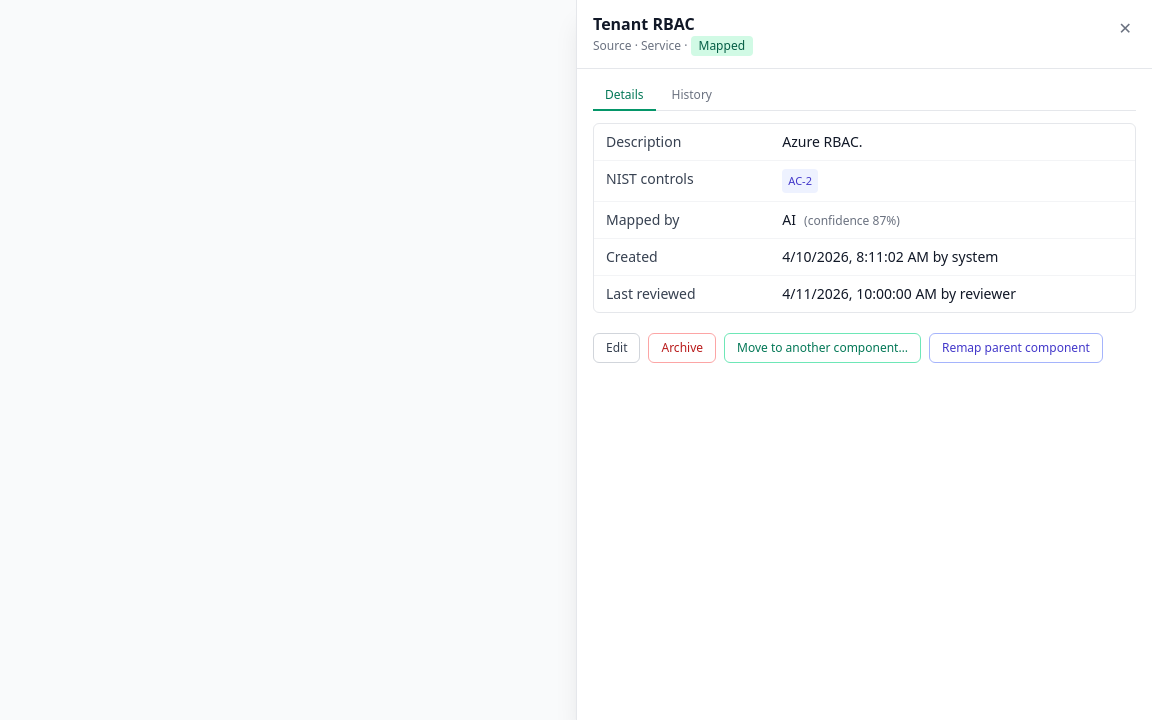
Test: CapabilityDetailDrawer — Feature 050 US2 Move action › clicking the enabled Move button opens the MoveCapabilityDialog
Click the button with test id "csp-capability-move-toggle" at point(822, 348), box [724, 333, 921, 363]
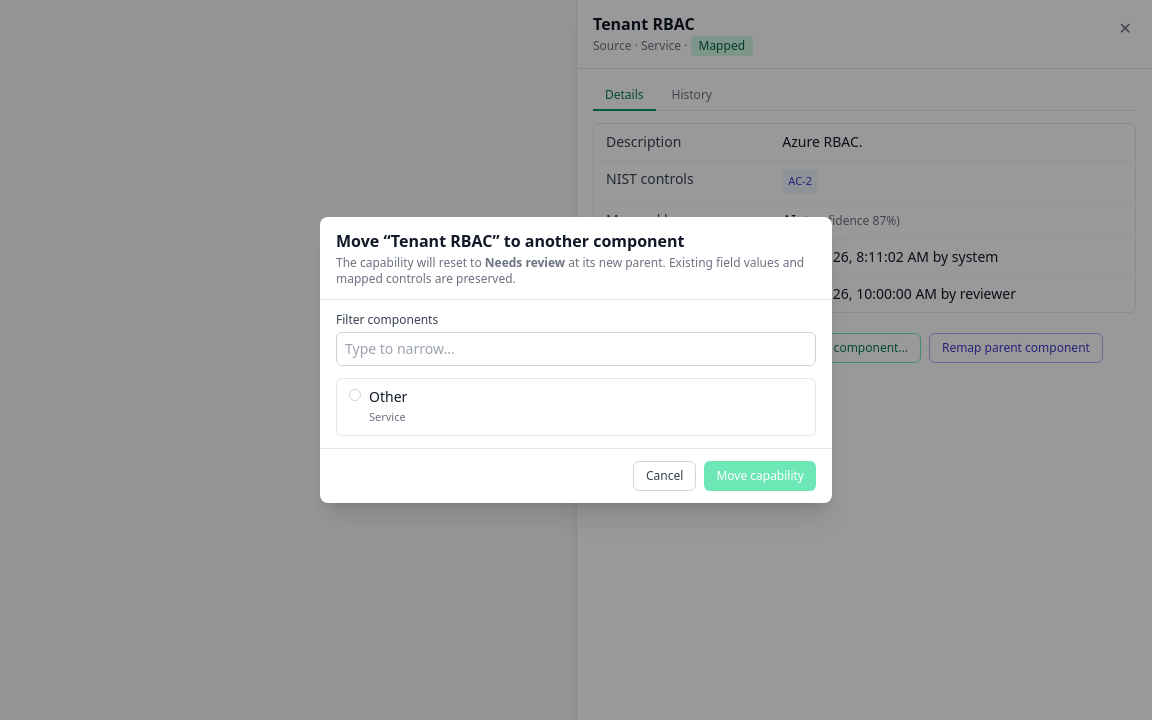
Check: the dialog with test id "csp-move-capability-dialog" is shown
